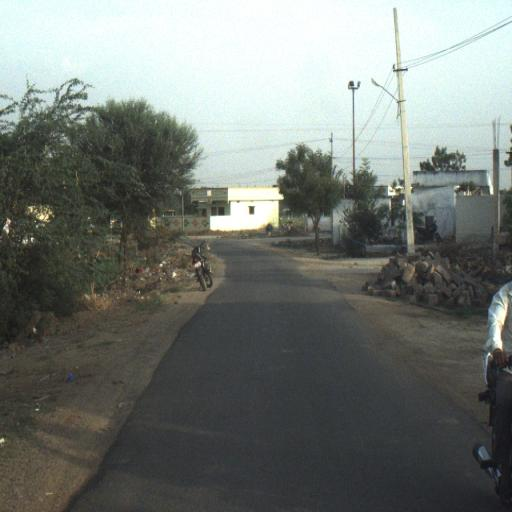street_light_0: (370, 77, 406, 120)
